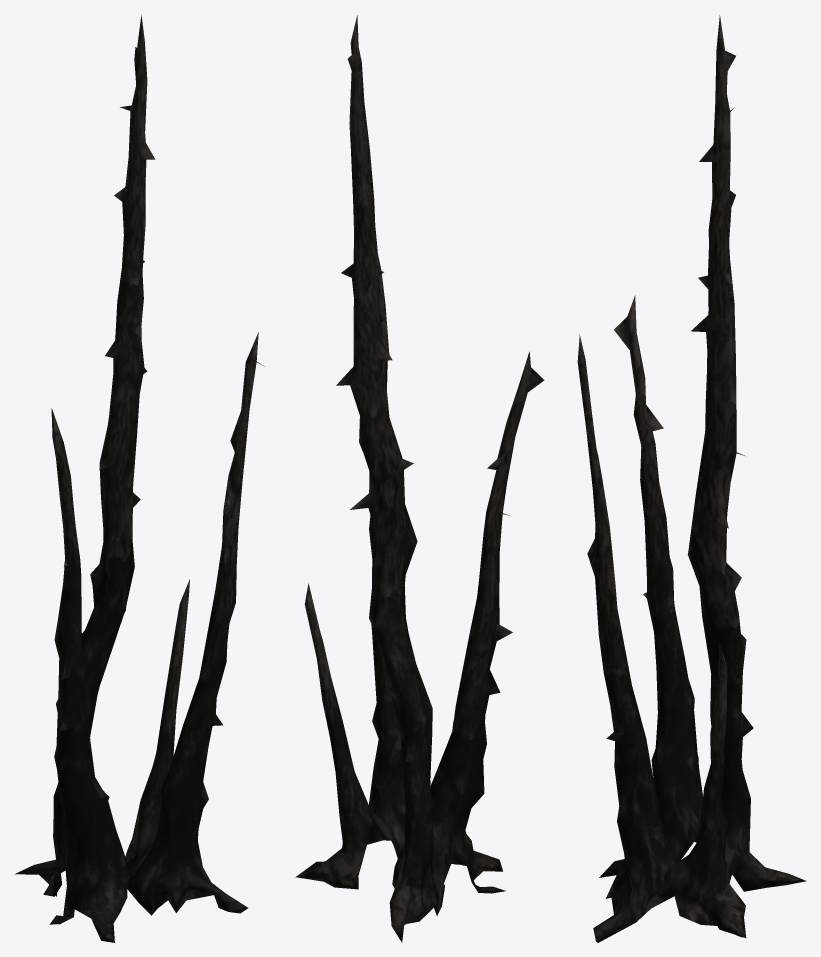
Rendered from haunted-tree-4.glb.
3 renders of one model, left to right at view 1: azimuth 30°, elevation 25°; view 2: azimuth 150°, elevation 25°; view 3: azimuth 270°, elevation 25°, orthographic. The views are drawn at different scales.
Parts seen in each view (by area): view 1: geometry_0; view 2: geometry_0; view 3: geometry_0.
Boxes of the visible parts, x1,y1,x2,y2 form: geometry_0: (14, 14, 264, 942); geometry_0: (295, 15, 544, 942); geometry_0: (577, 15, 806, 942).
Size of the model in its own units: 0.216 by 0.9475 by 0.2195.
Materials: 1 (1 with a texture image).
